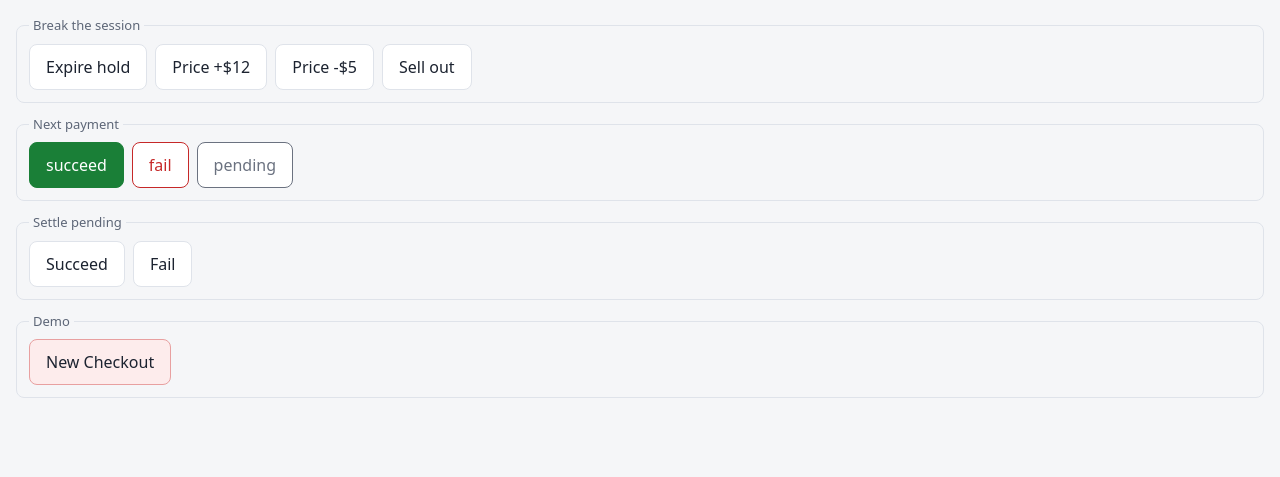
ChaosPanel › shows the active behavior after changing it
Click the button with test id "chaos-behavior-pending": {"x": 245, "y": 165} left=197, top=142, right=293, bottom=188
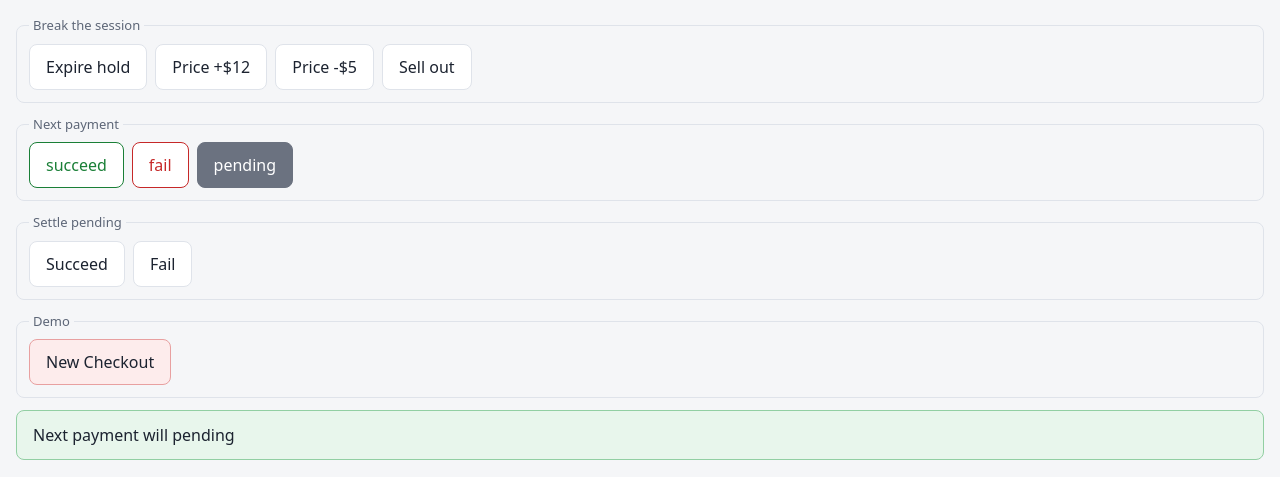
Expected: the message with test id "chaos-result" reads "Next payment will pending", left=33, top=424, right=235, bottom=446
